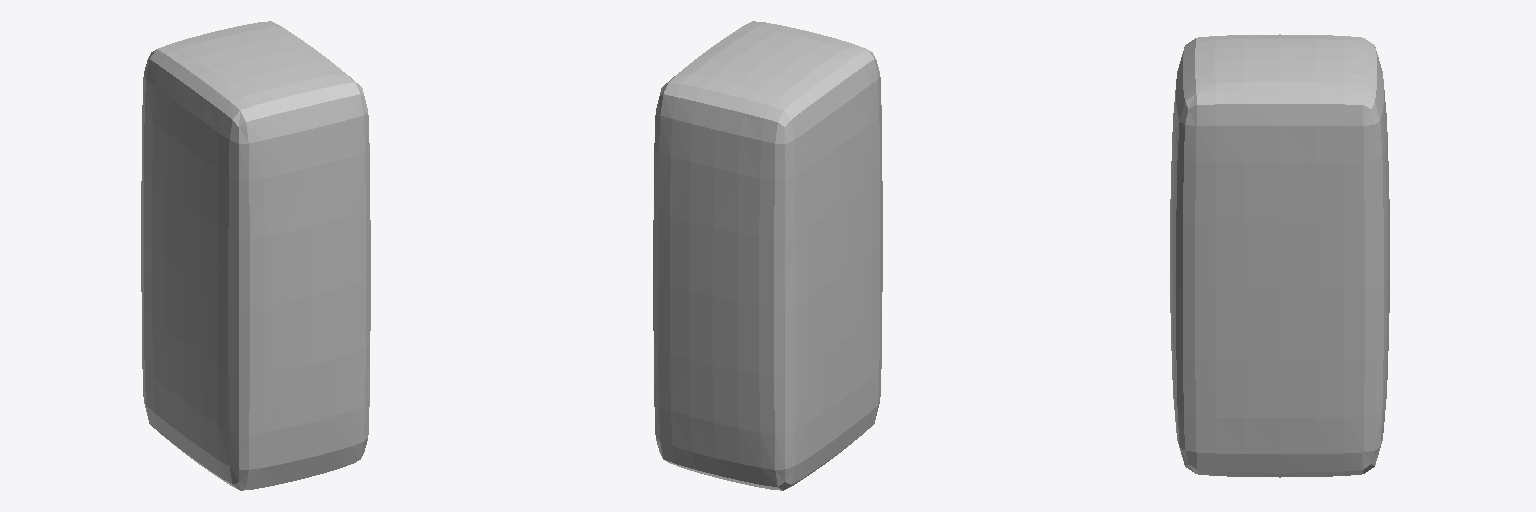
Rendered from arm3.obj.
3 views of the same model, side by side, from view 1: azimuth 30°, elevation 25°; view 2: azimuth 150°, elevation 25°; view 3: azimuth 270°, elevation 25° (orthographic).
Parts seen in each view (by area): view 1: polySurface6 pCube15; view 2: polySurface6 pCube15; view 3: polySurface6 pCube15.
Part boxes in pixels (x1,y1,x2,y2): polySurface6 pCube15: (141,21,370,490); polySurface6 pCube15: (653,21,882,490); polySurface6 pCube15: (1170,34,1389,477).
Bounding box in the file's own units: 0.76 × 1.96 × 0.9908.